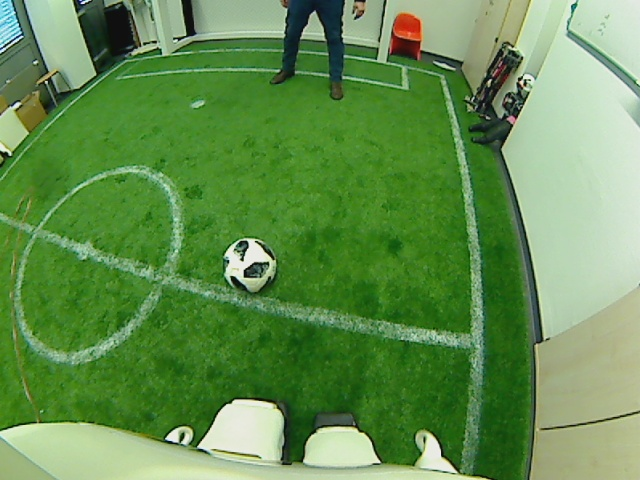ball: (220, 235, 278, 294)
